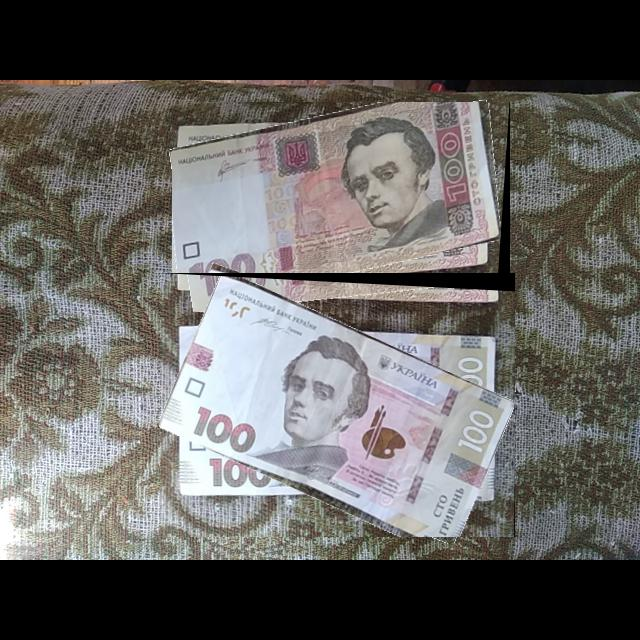100uah: (160, 276, 516, 538), (172, 102, 503, 311)
